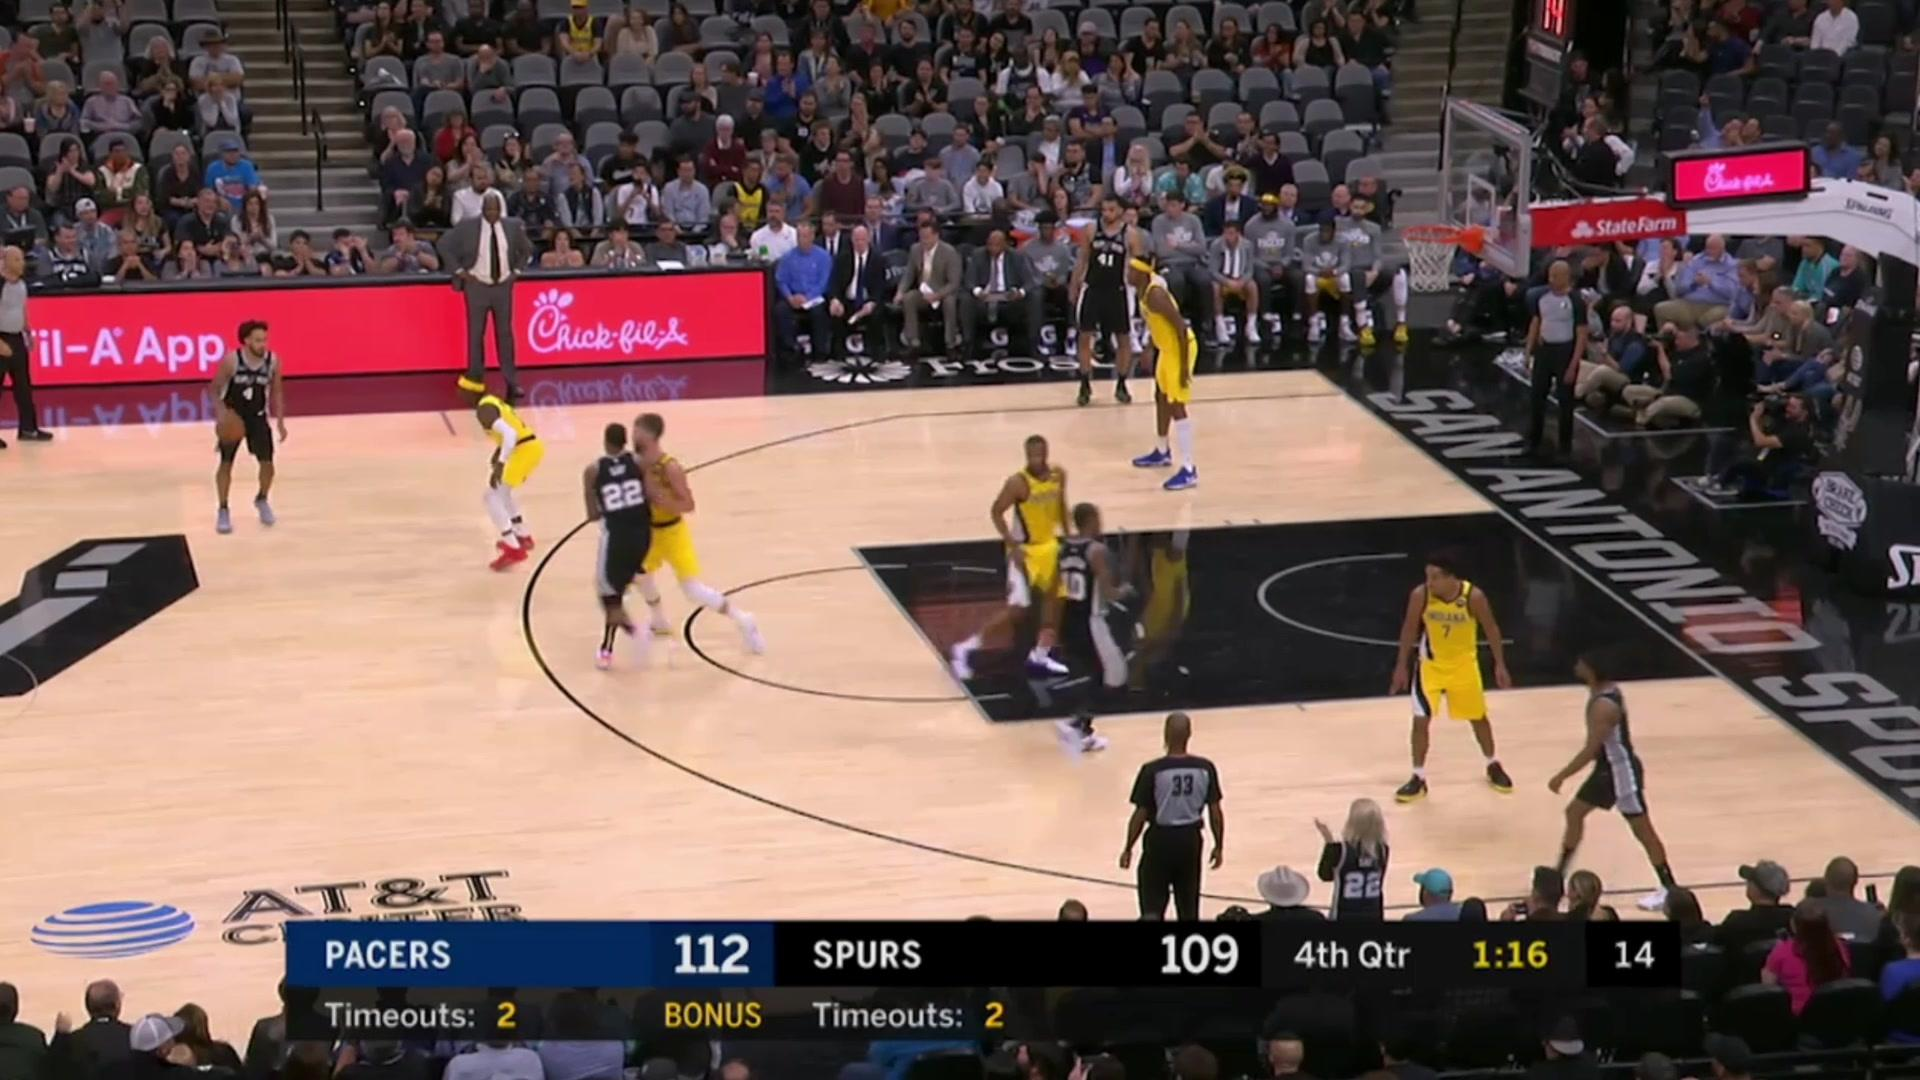no_foul: (566, 390, 738, 683)
